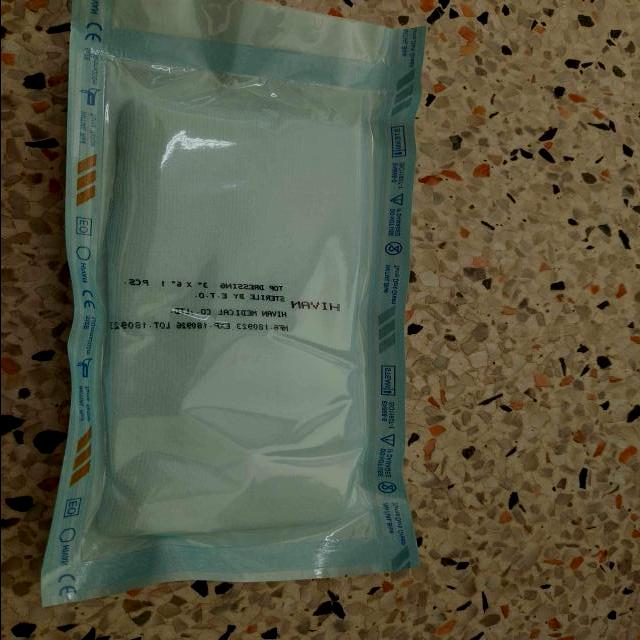General: (40, 3, 427, 609)
Sharps: (170, 307, 211, 322)
